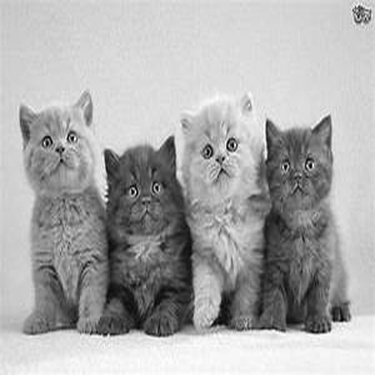cat: (175, 86, 269, 332), (14, 92, 108, 335), (255, 114, 353, 337), (91, 129, 194, 338)
